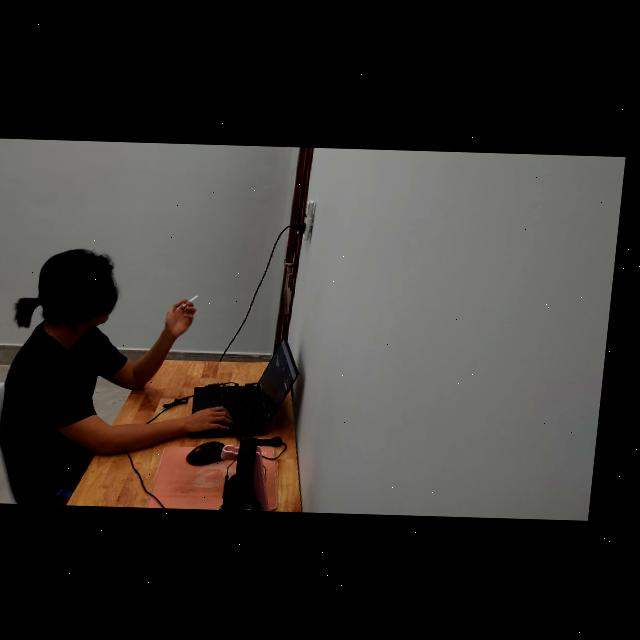cigarette: (187, 294, 205, 308)
